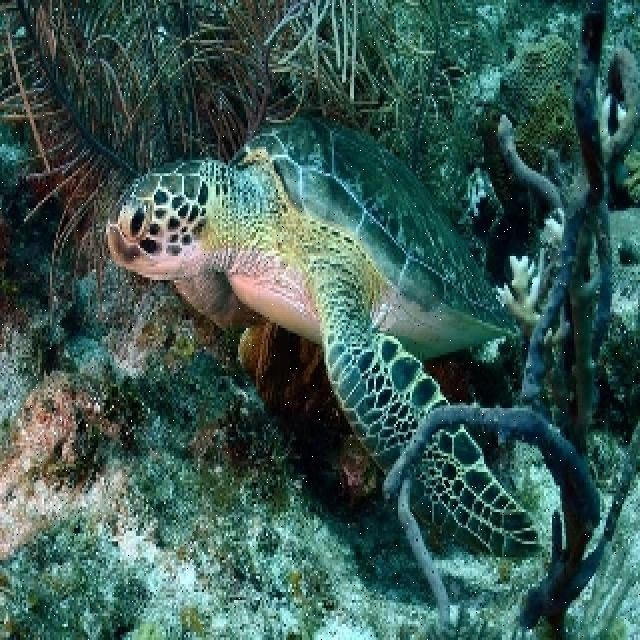fish: (105, 116, 520, 491)
reefs: (384, 3, 638, 637), (496, 250, 544, 321)
